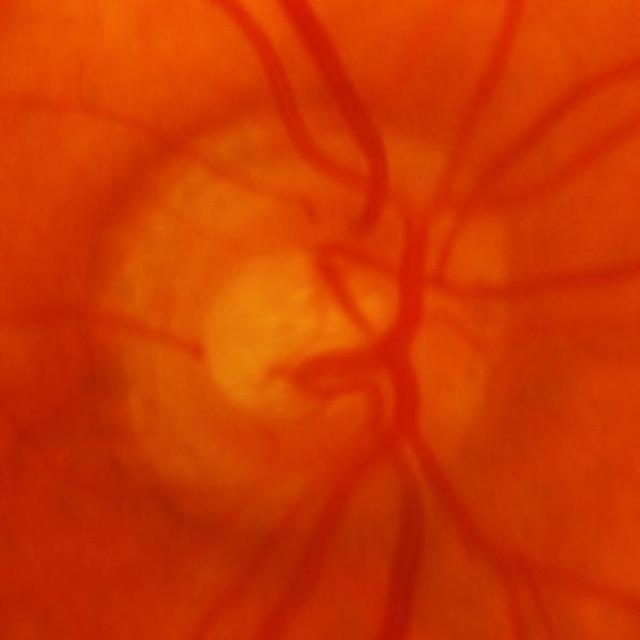OC: (203, 242, 411, 421)
OD: (83, 106, 509, 522)
